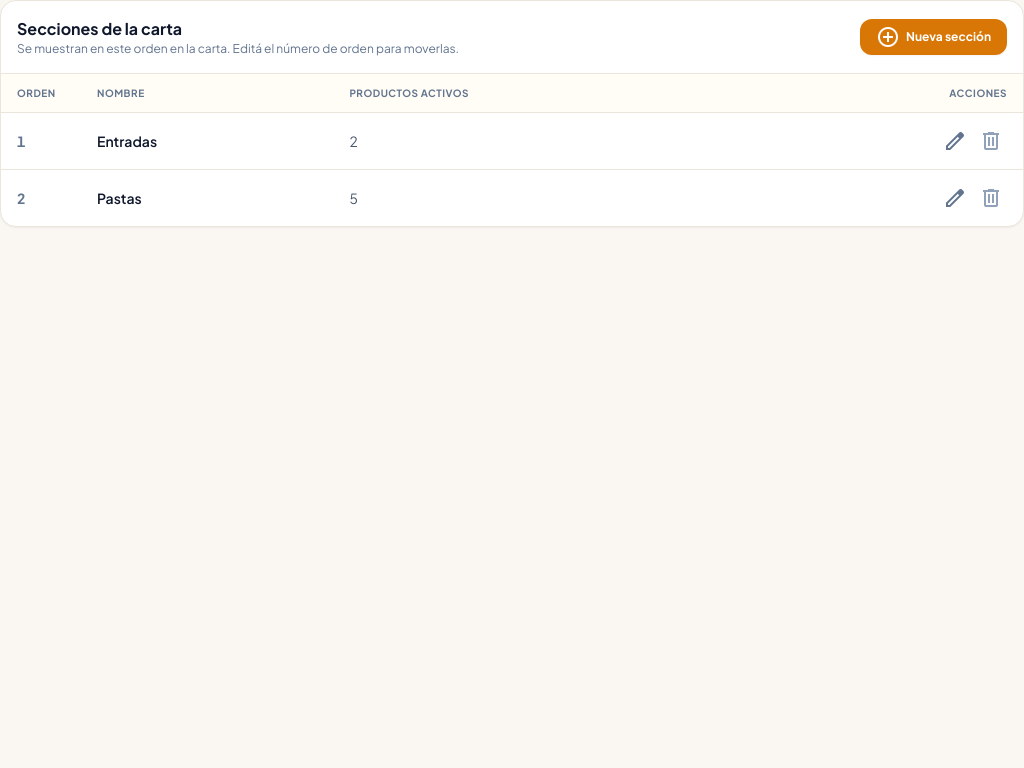
Test: SeccionesPage › muestra el motivo si la eliminación está bloqueada (CA6)
Click the button named "Eliminar Pastas" at {"x": 991, "y": 198}, box [975,182,1007,214]
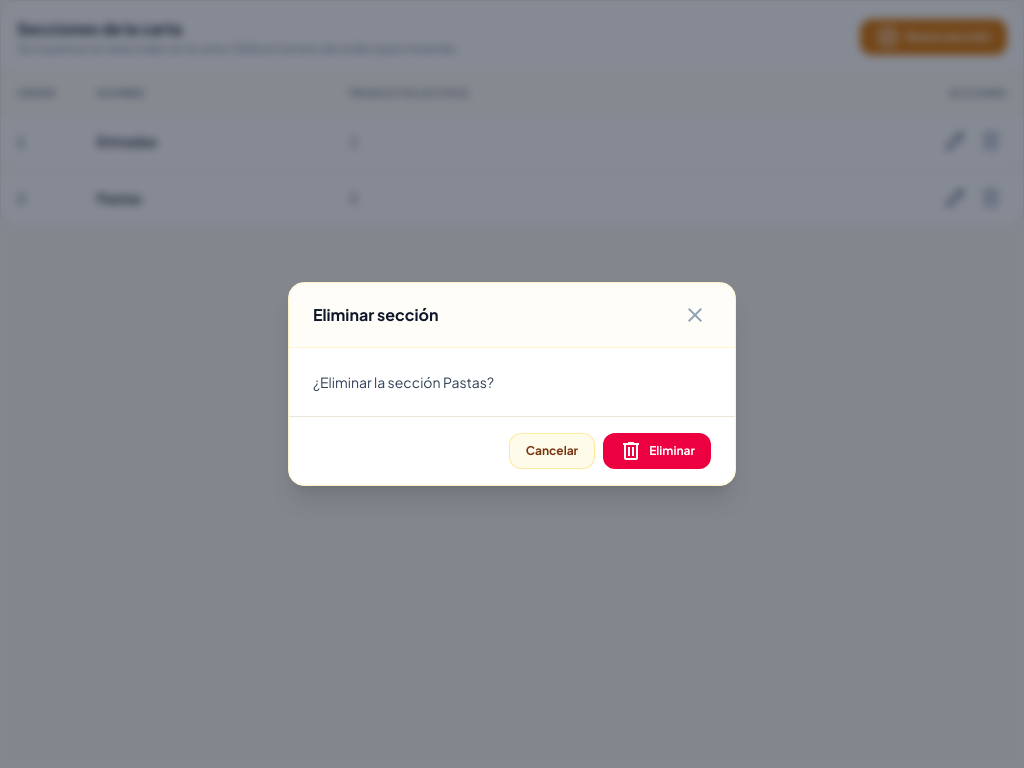
Check: the text "¿Eliminar la sección Pastas?" is shown, box [313,373,494,391]
Click the button "Eliminar" at {"x": 657, "y": 451}, box [603,433,711,469]
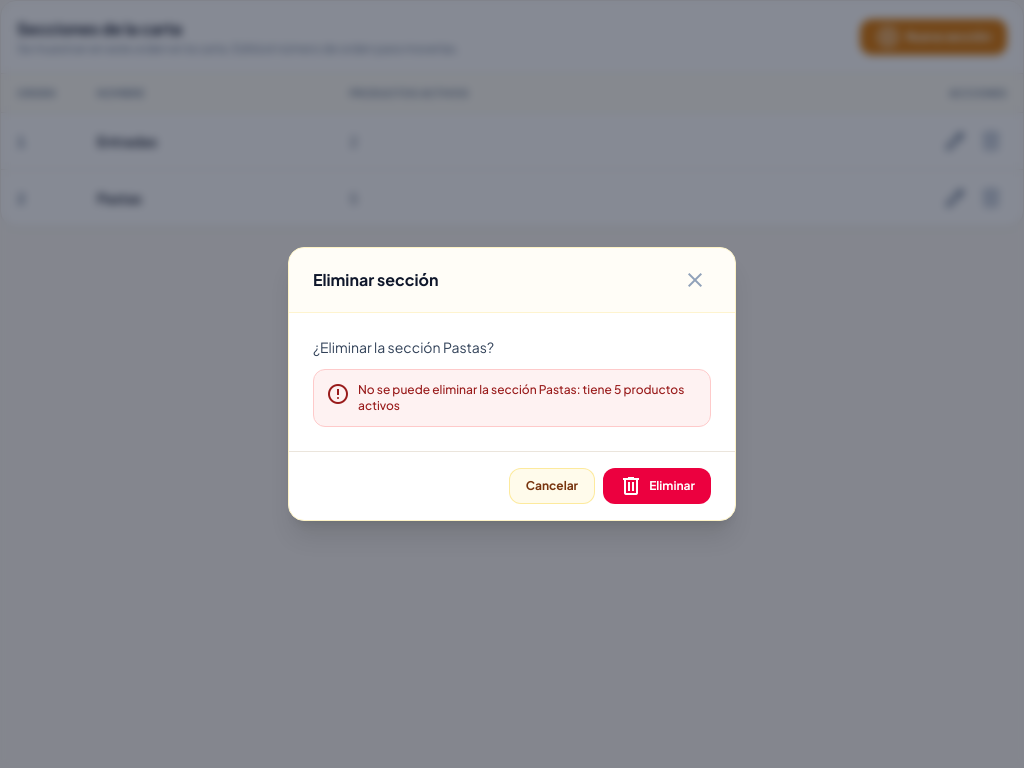
Check: the text "No se puede eliminar la sección Pastas: tiene 5 productos activos" is shown, box [358,382,698,414]
